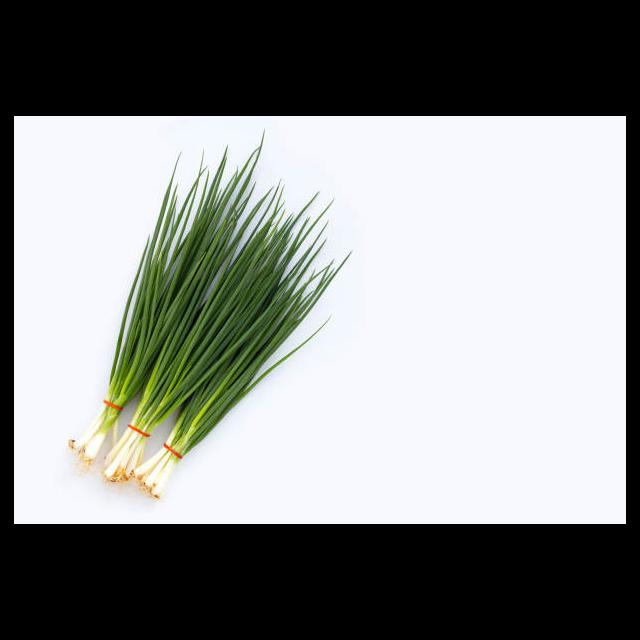green_onion: (59, 135, 357, 488)
